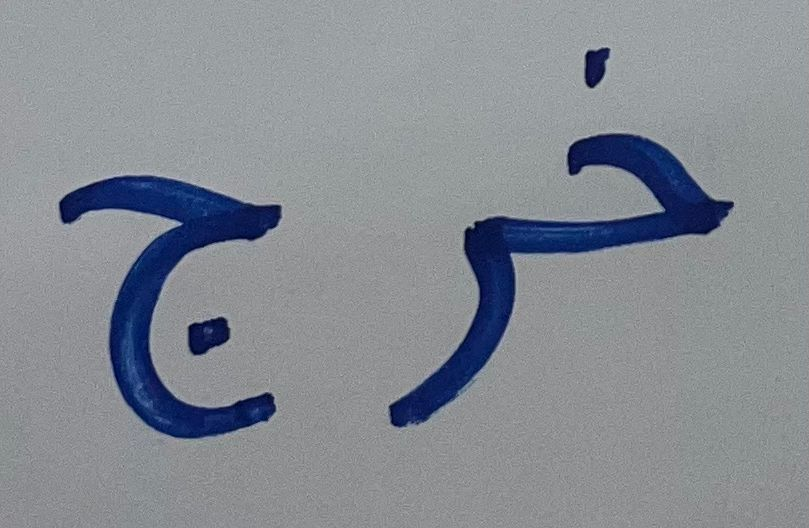jeem: (42, 136, 334, 456)
khah: (544, 33, 752, 279)
reh: (371, 177, 538, 446)
